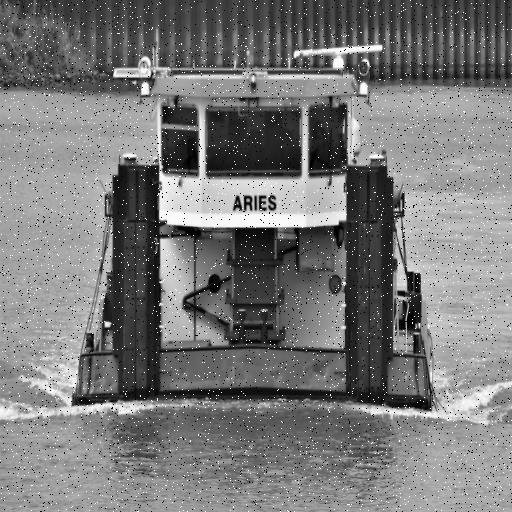tugboat: (70, 36, 443, 429)
